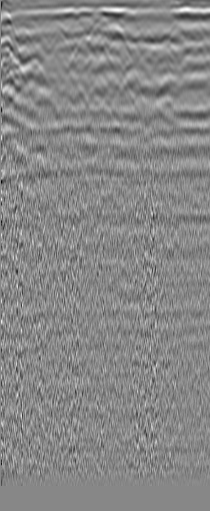오수: (13, 18, 33, 38)
우수: (165, 19, 185, 39)
